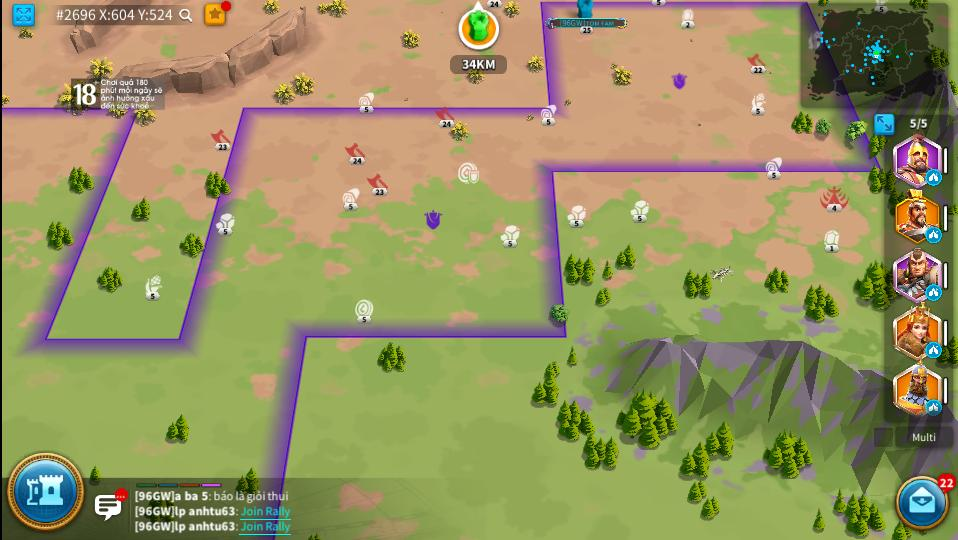gem-z-out: (824, 230, 838, 254), (682, 8, 696, 29)
march_idle: (925, 228, 942, 242), (926, 170, 940, 185), (927, 400, 941, 415), (926, 285, 940, 299), (928, 343, 940, 357)
